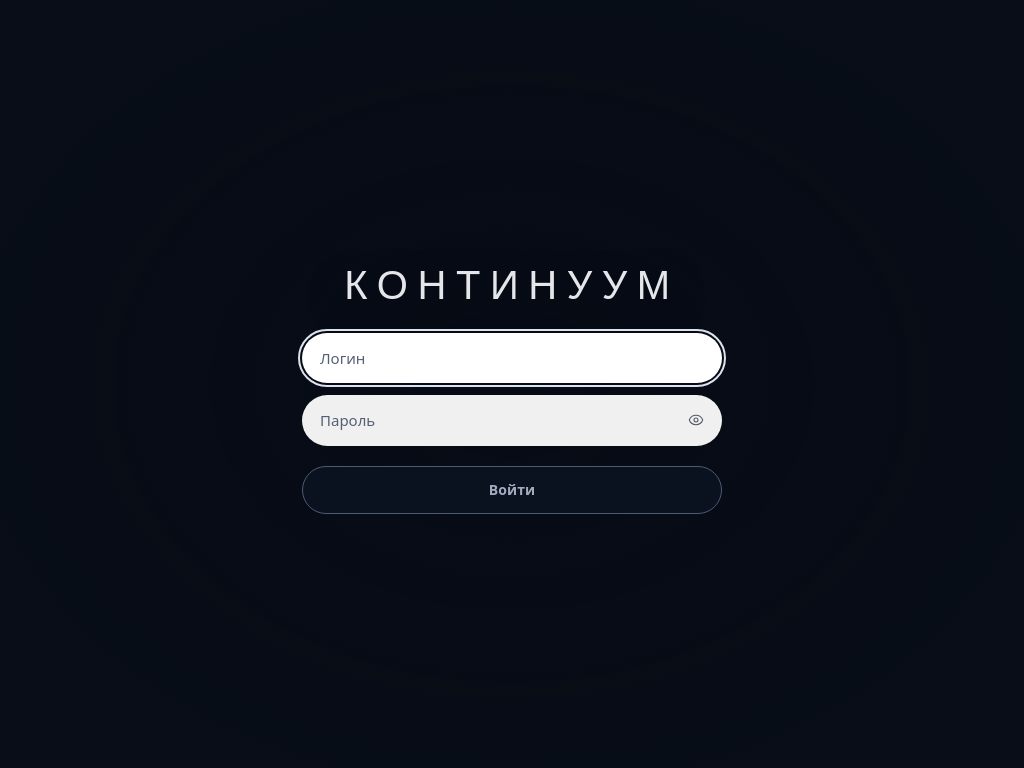
Test case: UnifiedLoginScreen › не показывает внутреннее сообщение сервера
The image size is (1024, 768).
In the field labelled "Логин": {"x": 512, "y": 358} [302, 332, 722, 383], type "teacher1"
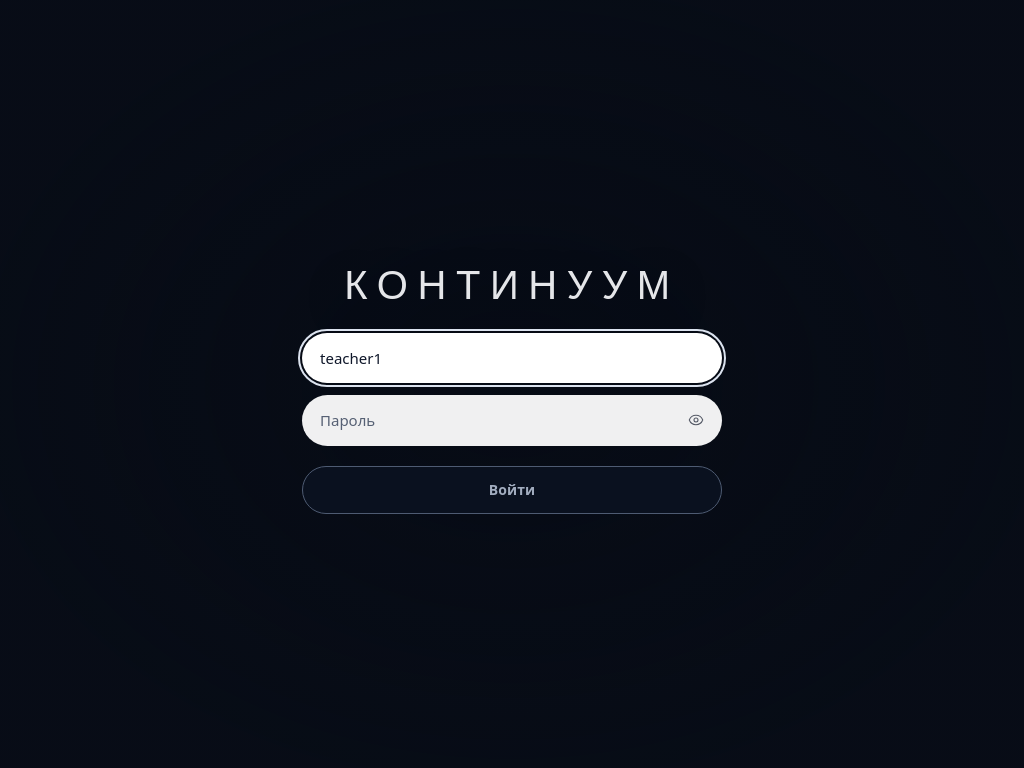
In the password field labelled "Пароль": {"x": 512, "y": 420} [302, 395, 722, 446], type "Pass123!"
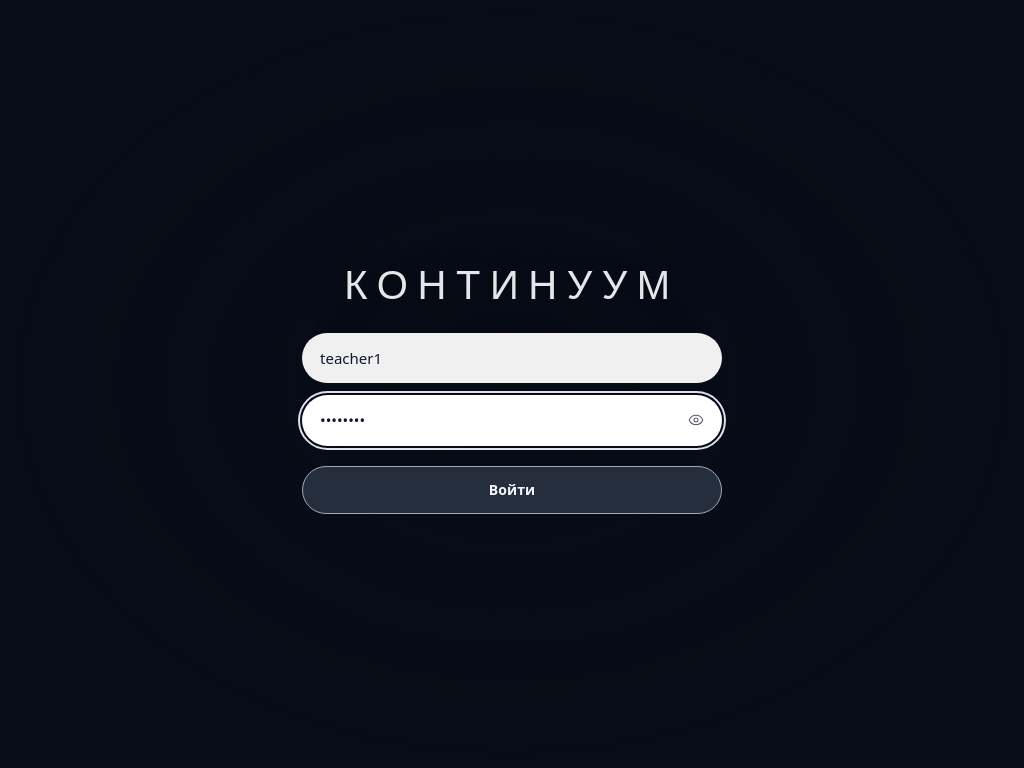
Click the button "Войти": {"x": 512, "y": 490} [302, 466, 722, 514]
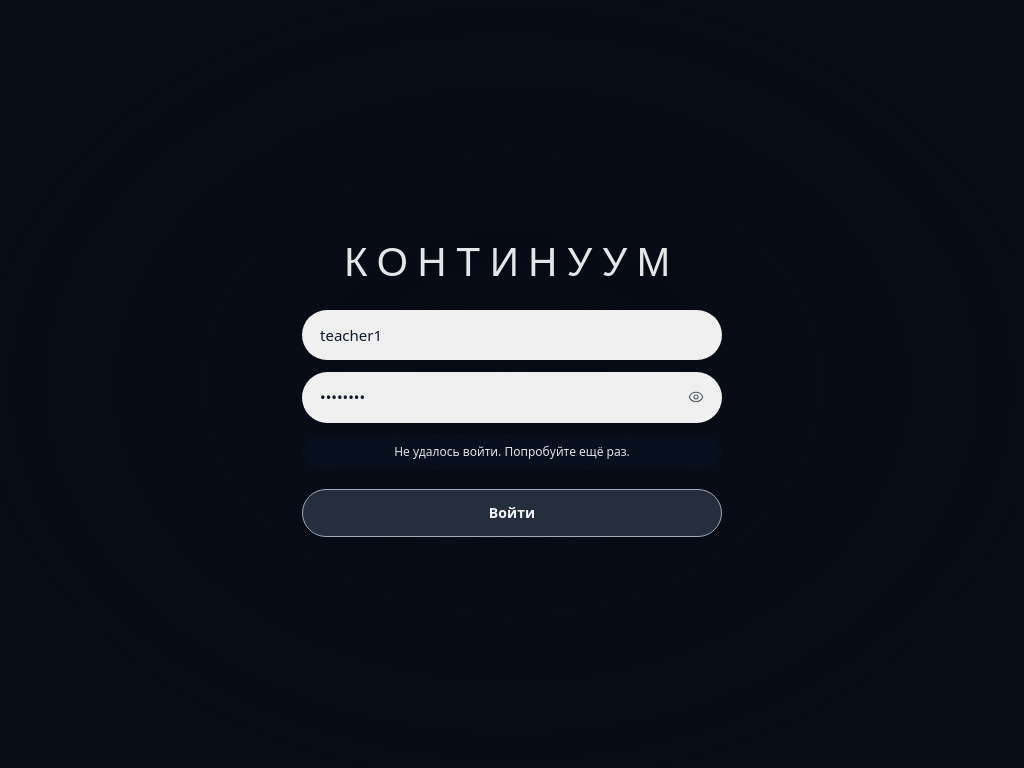
expect the message reads "Не удалось войти. Попробуйте ещё раз.": met, box [394, 442, 630, 460]
